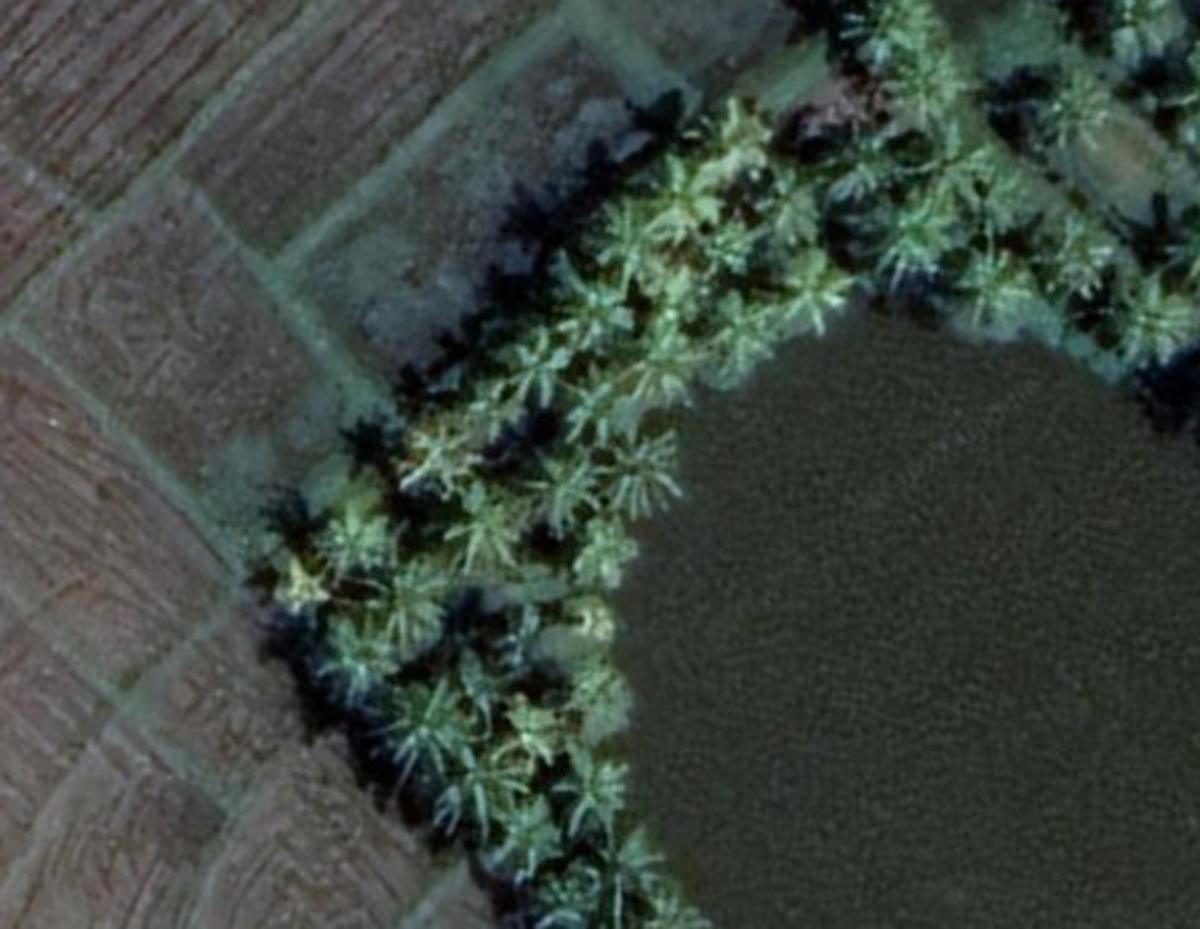coconut: (834, 2, 948, 101), (860, 185, 964, 284), (591, 190, 700, 281), (806, 121, 913, 208), (375, 672, 459, 779), (603, 434, 697, 527), (317, 624, 416, 710), (312, 500, 405, 591), (388, 421, 484, 507), (545, 357, 631, 451), (948, 241, 1032, 337), (1024, 63, 1111, 154), (547, 741, 631, 835), (443, 484, 530, 573), (697, 96, 783, 182), (652, 147, 733, 236), (1121, 274, 1200, 365), (390, 573, 474, 654), (626, 314, 705, 395), (438, 751, 522, 827), (783, 256, 857, 340), (702, 294, 776, 373), (1035, 210, 1103, 294), (494, 317, 568, 393), (517, 446, 586, 527), (494, 797, 565, 873)
